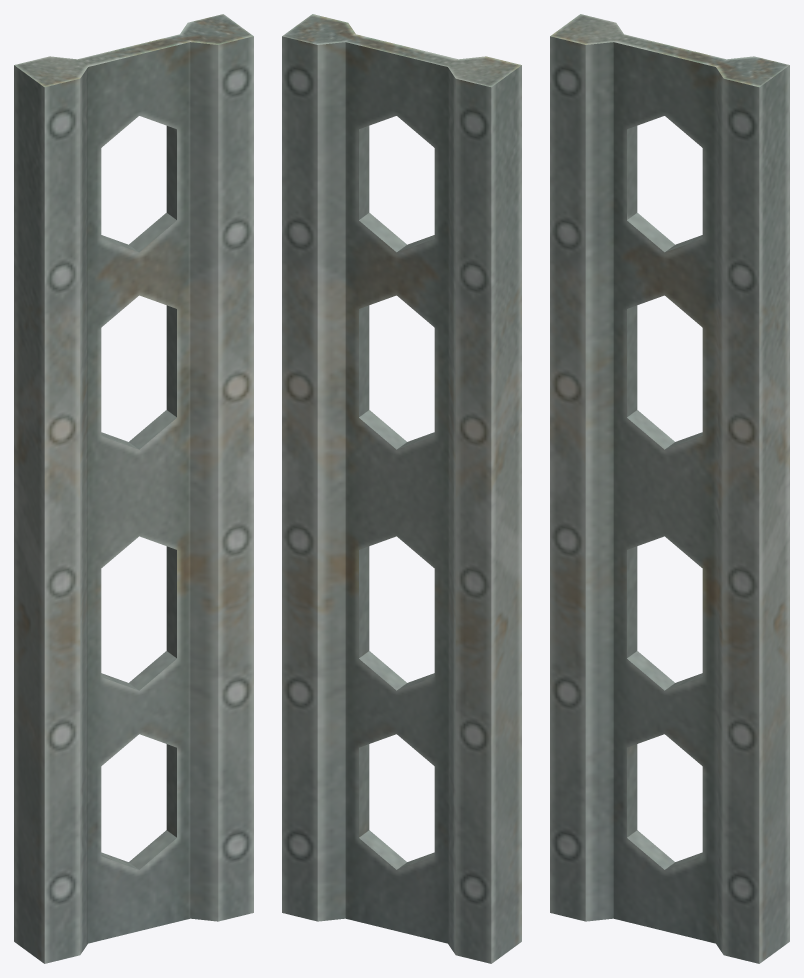
File: Girder_Long.FBX
The picture shows the model from 3 angles, left to right: view 1: azimuth 30°, elevation 25°; view 2: azimuth 150°, elevation 25°; view 3: azimuth 330°, elevation 25°; orthographic projection.
Parts seen in each view (by area): view 1: Girder_Long; view 2: Girder_Long; view 3: Girder_Long.
Part boxes in pixels (x1,y1,x2,y2): Girder_Long: (14, 14, 253, 963); Girder_Long: (282, 14, 521, 963); Girder_Long: (550, 14, 789, 963).
Size of the model in its own units: 100 by 400 by 25.2.
